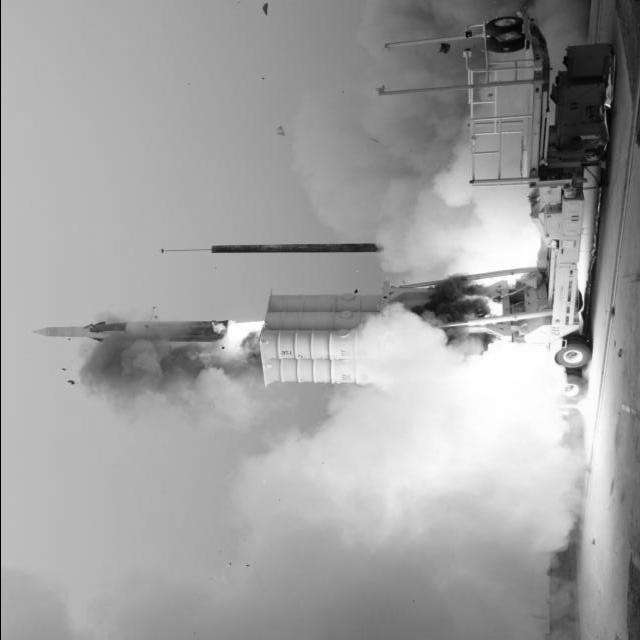missile: (19, 314, 239, 350)
